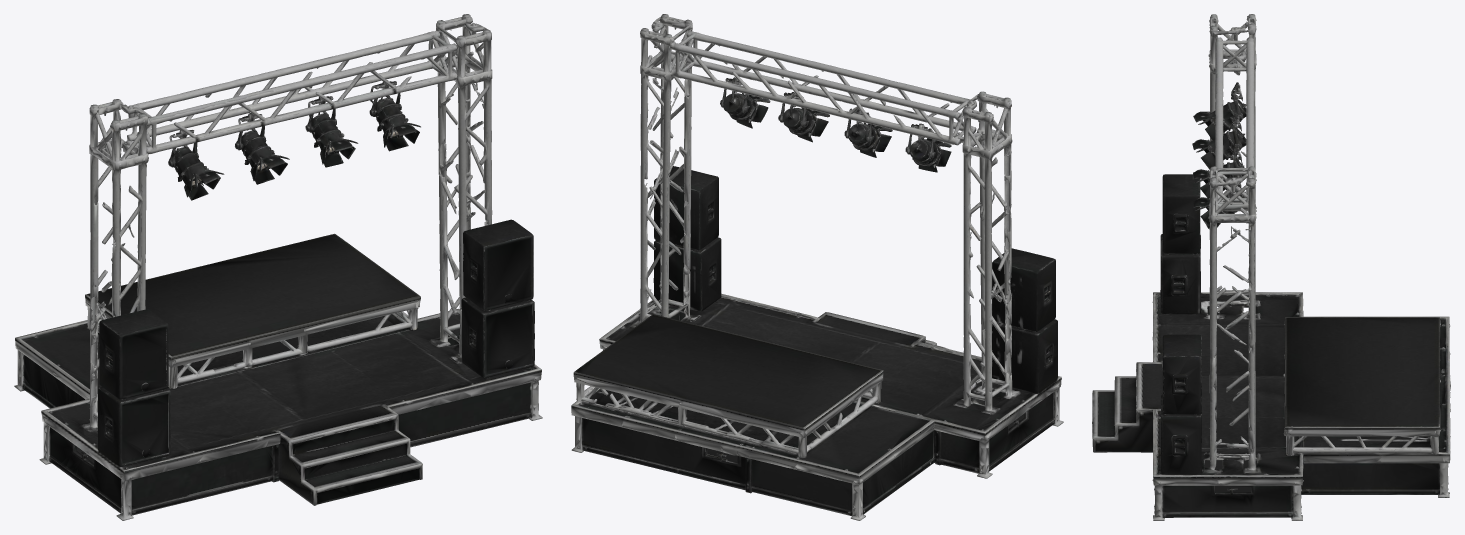
Rendered from stage_optimized.glb.
3 renders of one model, left to right at view 1: azimuth 30°, elevation 25°; view 2: azimuth 150°, elevation 25°; view 3: azimuth 270°, elevation 25°, orthographic. The views are drawn at different scales.
Parts seen in each view (by area): view 1: mesh_node; view 2: mesh_node; view 3: mesh_node.
Boxes of the visible parts, x1,y1,x2,y2 form: mesh_node: [14, 14, 542, 520]; mesh_node: [571, 14, 1063, 520]; mesh_node: [1092, 14, 1450, 520].
Size of the model in its own units: 1.9 by 1.59 by 1.56.
Materials: 1 (1 with a texture image).
